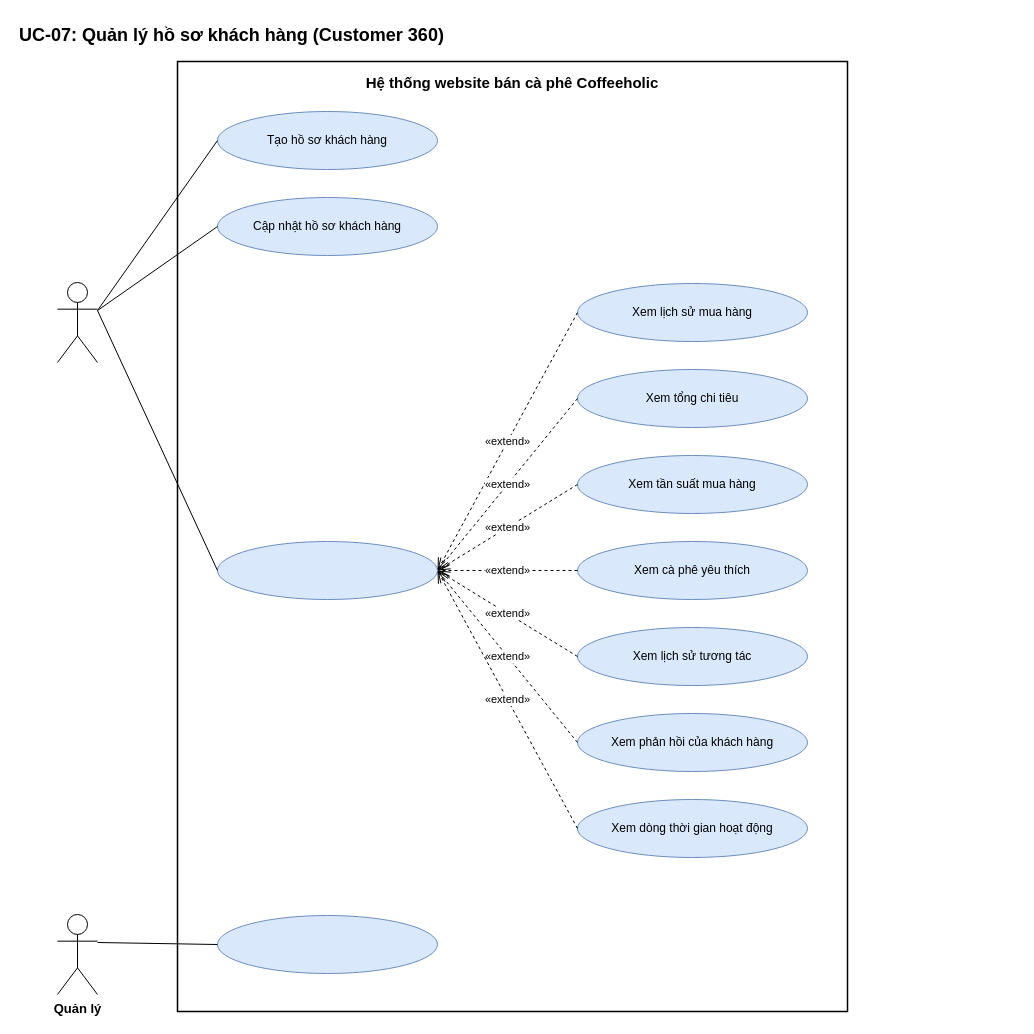
This 1034x1034 diagram has some shape labels left out. Each missing label, with the centre of its shape:
Gộp hồ sơ khách hàng bị trùng: the point at 327,944
Nhân viên: the point at 77,322
Xem hồ sơ khách hàng: the point at 327,570
